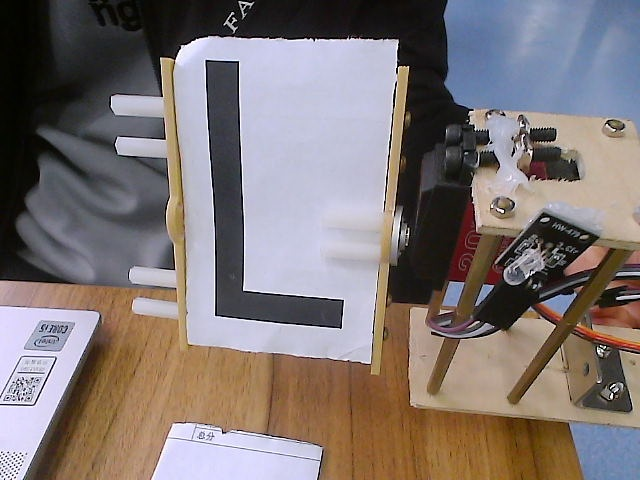L: (98, 16, 443, 374)
